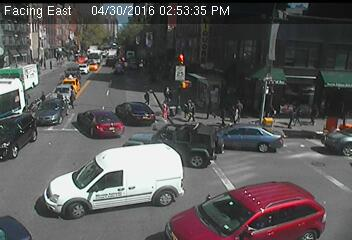neg: (150, 161, 175, 194), (22, 159, 47, 192), (33, 98, 57, 130), (286, 176, 308, 205), (162, 46, 183, 74), (224, 41, 245, 69), (103, 180, 124, 208), (256, 197, 276, 224), (325, 115, 345, 142), (92, 111, 112, 137), (249, 135, 269, 161), (307, 36, 327, 62), (60, 164, 78, 188), (211, 197, 228, 220), (129, 32, 146, 55), (31, 34, 48, 56), (104, 80, 119, 100), (102, 52, 117, 71), (58, 56, 73, 75), (287, 68, 300, 85)
pos: (304, 101, 324, 127), (179, 97, 197, 120), (286, 104, 303, 127), (64, 82, 81, 105), (231, 98, 248, 120), (159, 98, 175, 119), (142, 85, 155, 104)
